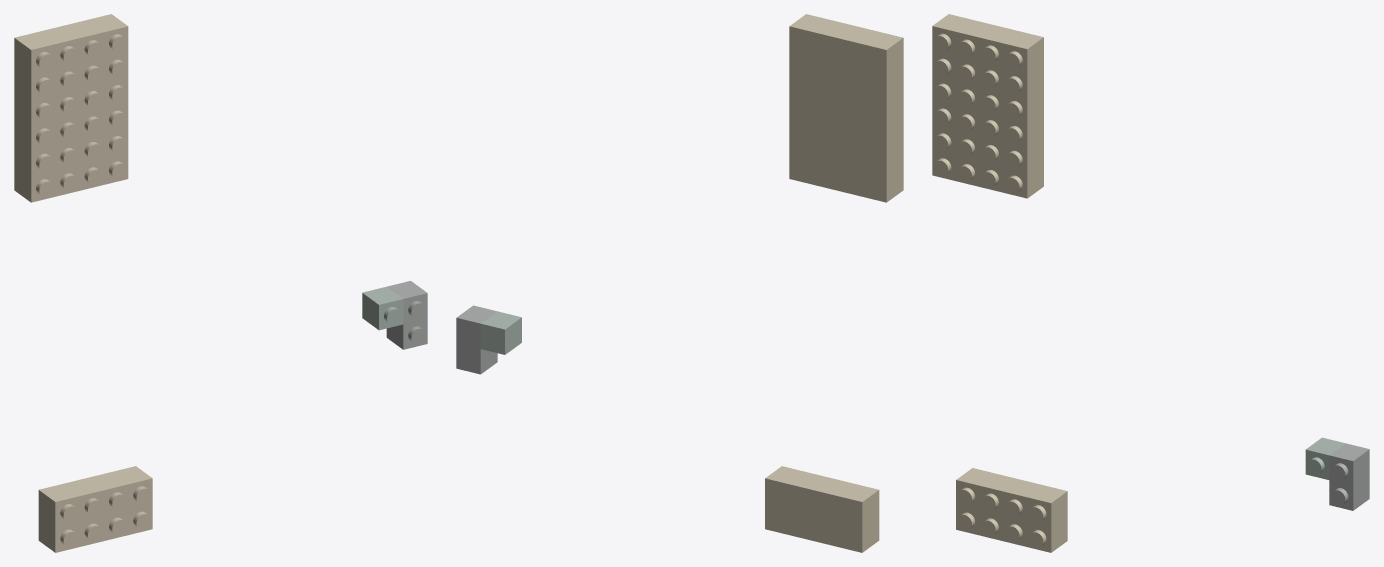
Rendered from current.glb.
The picture shows the model from 3 angles, left to right: view 1: azimuth 30°, elevation 25°; view 2: azimuth 150°, elevation 25°; view 3: azimuth 330°, elevation 25°; orthographic projection. The views are drawn at different scales.
Parts seen in each view (by area): view 1: world; view 2: world; view 3: world.
Part boxes in pixels (<box>): world: <box>14,14,427,552</box>; world: <box>456,14,903,552</box>; world: <box>932,14,1369,552</box>.
Bounding box in the file's own units: 136 × 160 × 21.
